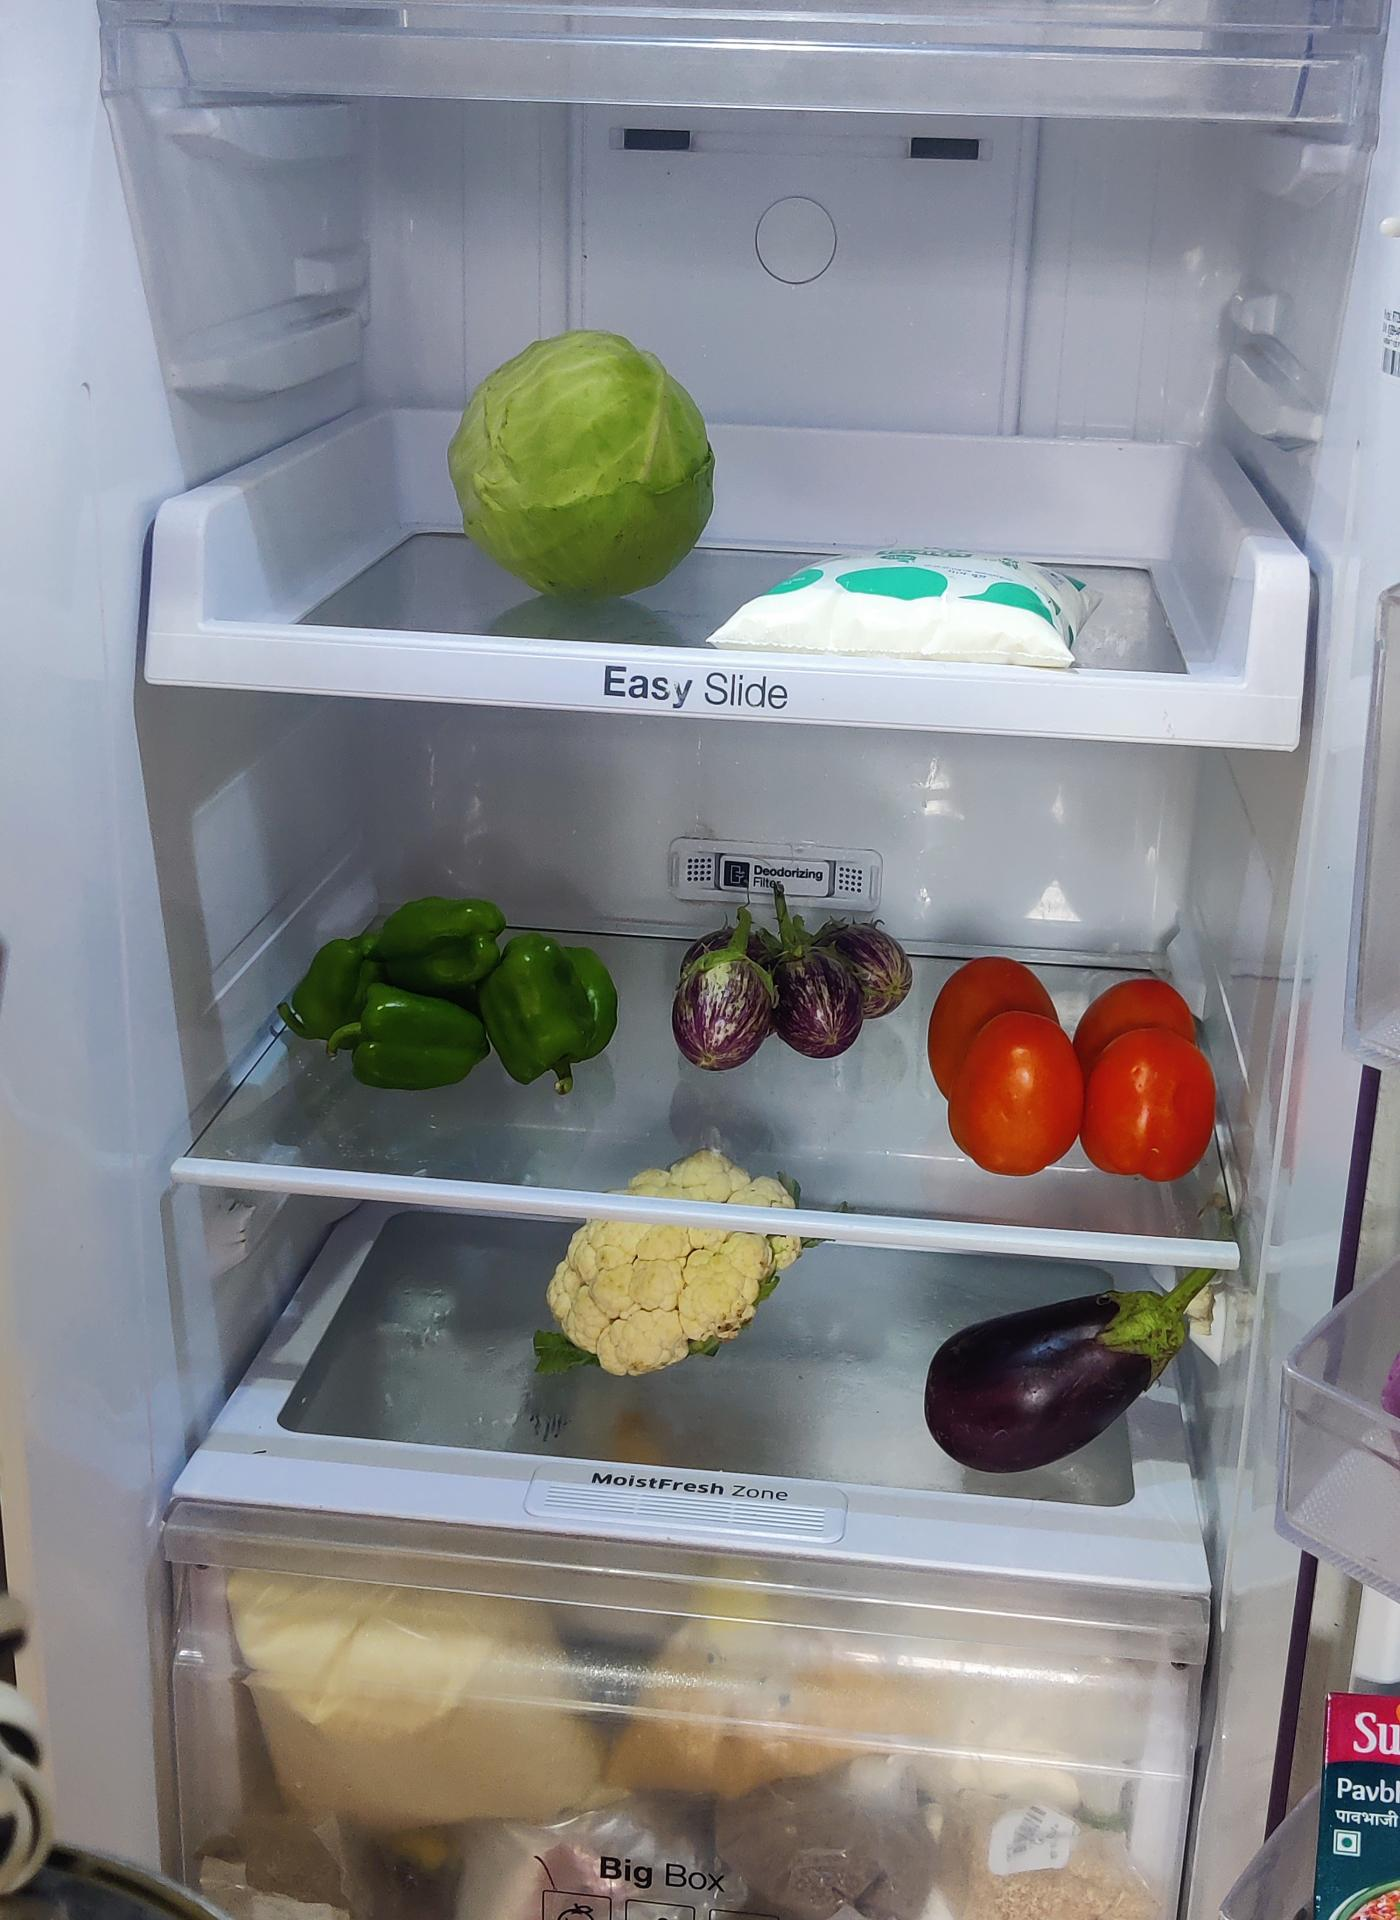brinjal: (920, 1264, 1214, 1470), (666, 905, 914, 1075)
cabbage: (452, 328, 713, 596)
capsicum: (289, 887, 614, 1087)
cauliflower: (544, 1157, 804, 1361)
milk: (719, 552, 1109, 669)
tomato: (930, 957, 1214, 1184)
